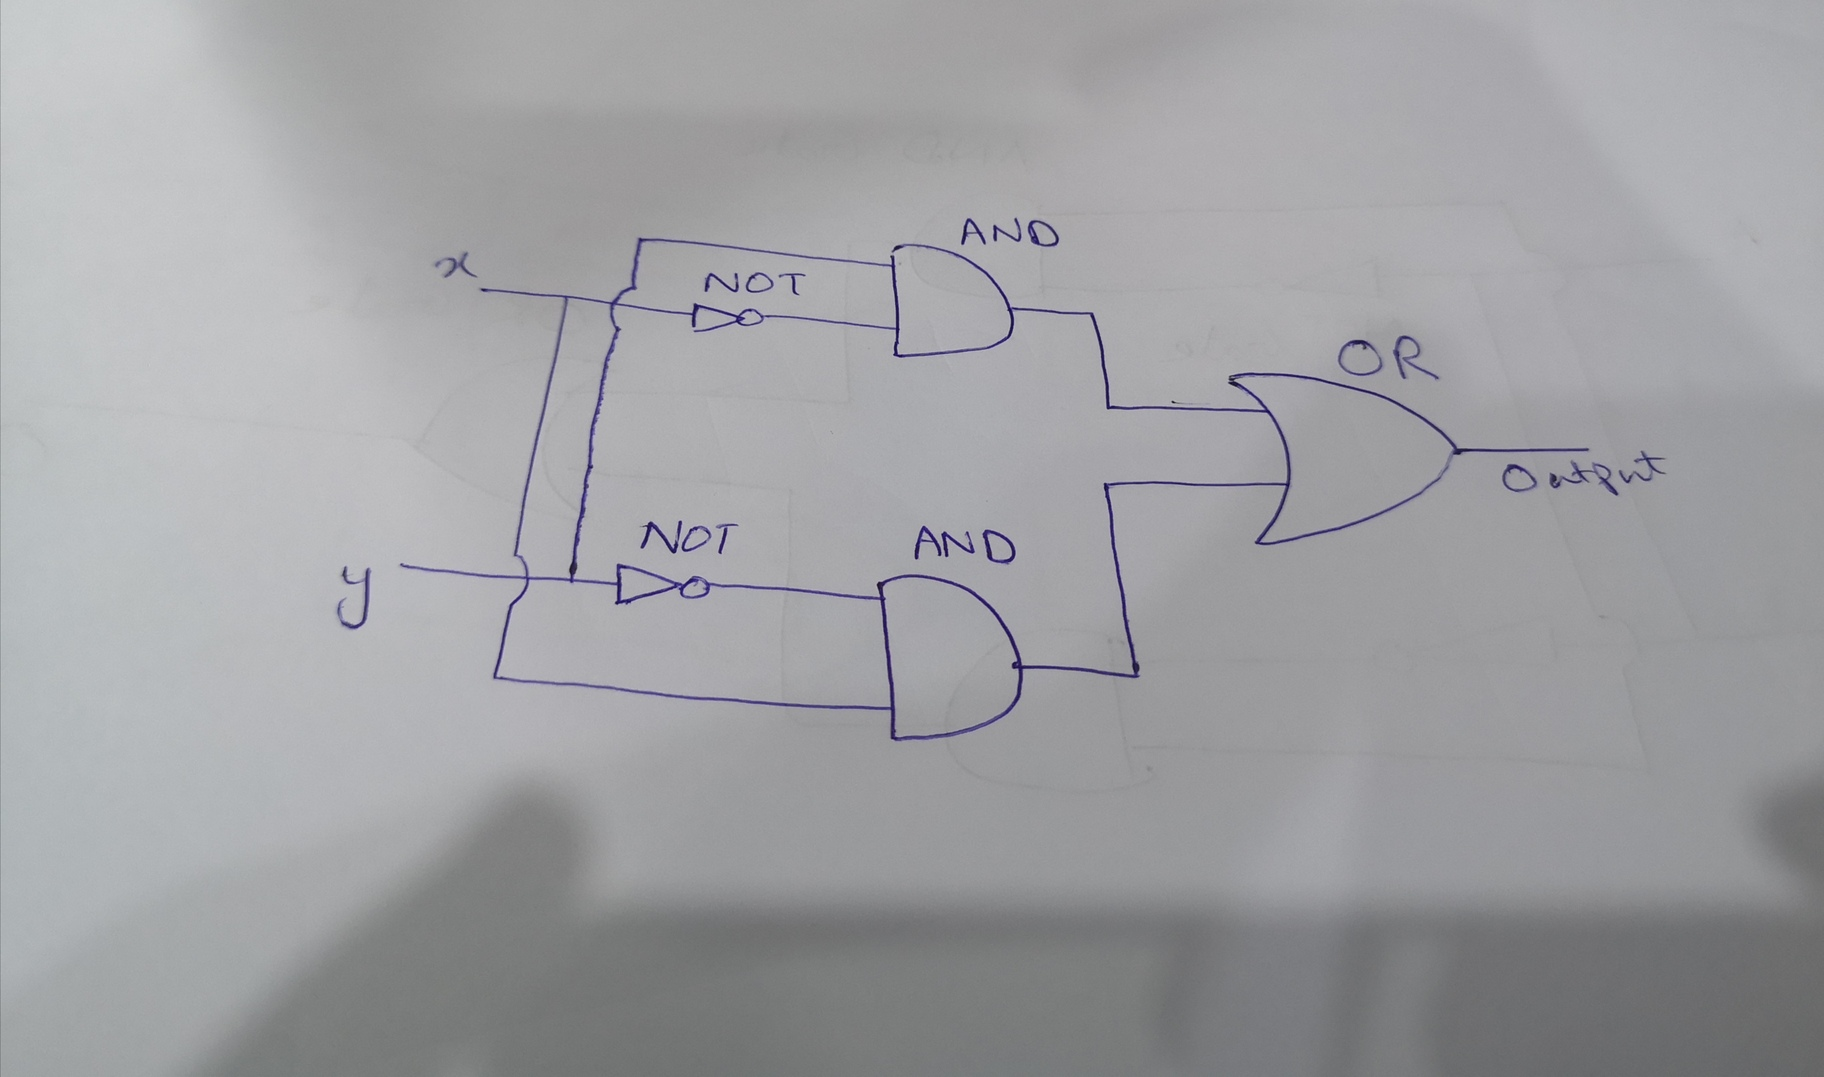and: (870, 568, 1033, 756), (884, 238, 1023, 365)
crossover: (504, 551, 535, 608), (605, 283, 640, 333)
junction: (1122, 655, 1152, 690), (1095, 395, 1123, 422), (1077, 303, 1105, 327), (1093, 473, 1118, 499), (561, 567, 583, 594), (486, 664, 508, 686), (552, 287, 573, 308), (629, 230, 650, 247)
not: (611, 556, 713, 612), (687, 299, 772, 337)
or: (1222, 367, 1464, 550)
terminal: (1577, 438, 1598, 456), (470, 281, 492, 297), (394, 556, 411, 574)
text: (1497, 446, 1671, 500), (1331, 332, 1443, 386), (911, 521, 1022, 567), (634, 518, 742, 562), (704, 265, 810, 303), (958, 215, 1066, 251), (332, 563, 379, 631), (433, 250, 478, 278)
